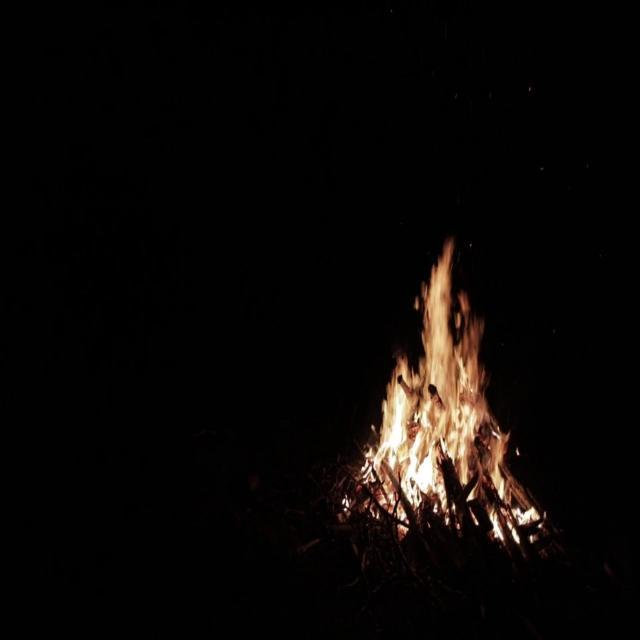Fire: (348, 227, 538, 545)
